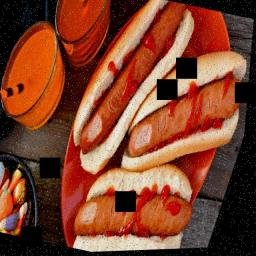hotdog: (59, 0, 203, 182), (116, 25, 254, 188), (64, 154, 219, 254)
